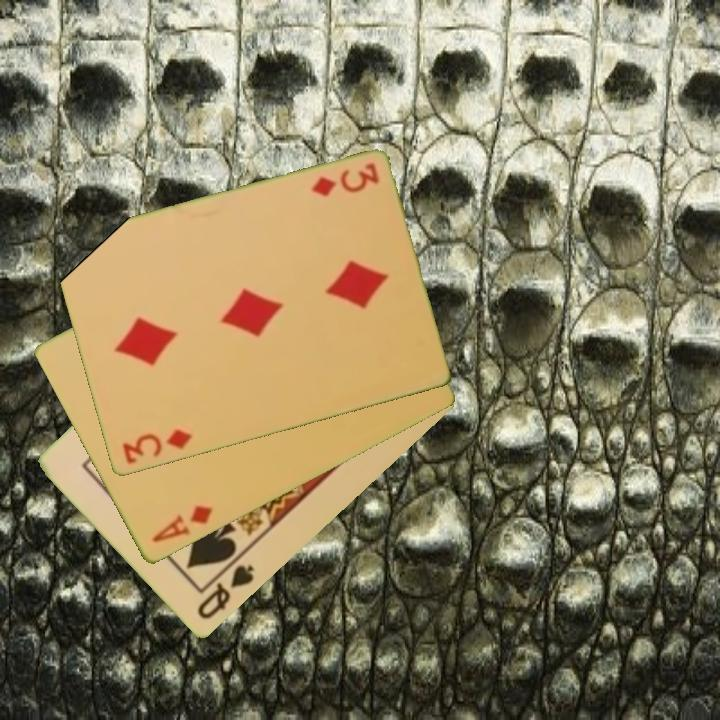3d: (118, 426, 195, 468), (307, 160, 382, 200)
Ad: (148, 501, 216, 547)
Qs: (193, 561, 257, 623)
